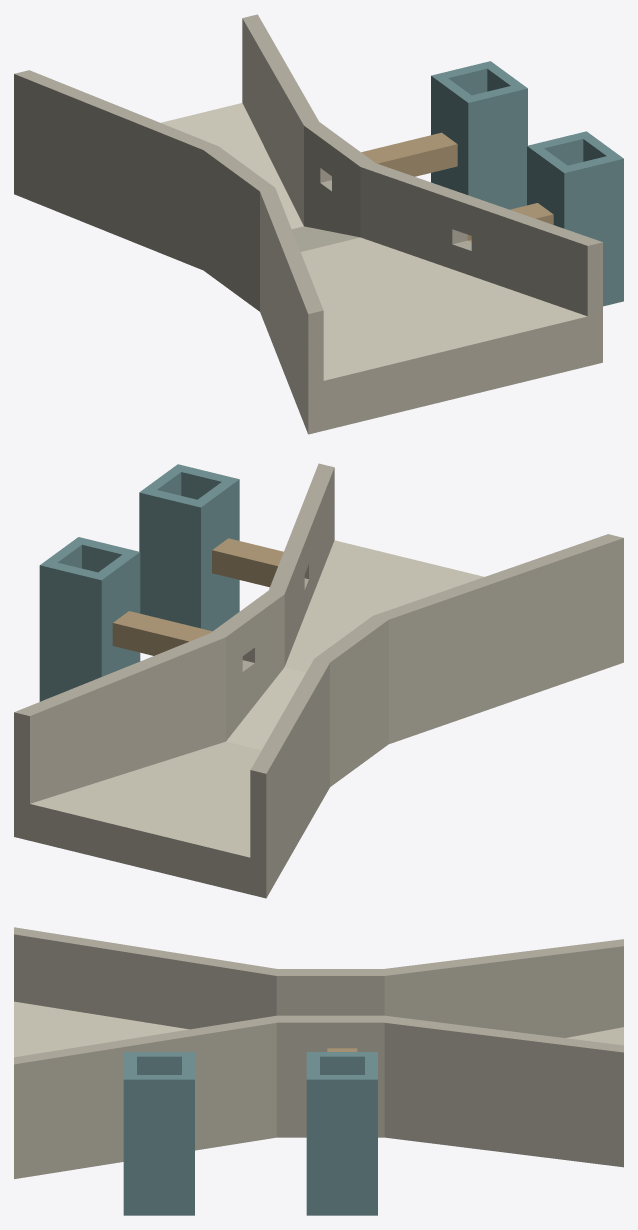
The picture shows the model from 3 angles, top to bottom: view 1: azimuth 30°, elevation 25°; view 2: azimuth 150°, elevation 25°; view 3: azimuth 270°, elevation 25°; orthographic projection. The views are drawn at different scales.
Visible parts, largest first — view 1: WholeConvergingDroppingAndExpandingFlume, WholeOpenFloorAndPortSideWell2, WholeOpenFloorAndPortSideWell1, WholeHollowRectangularSideConnection2; view 2: WholeConvergingDroppingAndExpandingFlume, WholeOpenFloorAndPortSideWell1, WholeOpenFloorAndPortSideWell2, WholeHollowRectangularSideConnection2, WholeHollowRectangularSideConnection1; view 3: WholeConvergingDroppingAndExpandingFlume, WholeOpenFloorAndPortSideWell1, WholeOpenFloorAndPortSideWell2.
Boxes of the visible parts, <box> form: WholeConvergingDroppingAndExpandingFlume: <box>14,14,602,434</box>; WholeOpenFloorAndPortSideWell2: <box>431,61,527,209</box>; WholeOpenFloorAndPortSideWell1: <box>527,131,623,306</box>; WholeHollowRectangularSideConnection2: <box>361,132,457,176</box>; WholeConvergingDroppingAndExpandingFlume: <box>14,463,623,898</box>; WholeOpenFloorAndPortSideWell1: <box>139,464,239,631</box>; WholeOpenFloorAndPortSideWell2: <box>39,537,140,701</box>; WholeHollowRectangularSideConnection2: <box>112,611,212,655</box>; WholeHollowRectangularSideConnection1: <box>212,538,283,587</box>; WholeConvergingDroppingAndExpandingFlume: <box>14,927,623,1179</box>; WholeOpenFloorAndPortSideWell1: <box>123,1052,194,1215</box>; WholeOpenFloorAndPortSideWell2: <box>306,1052,377,1215</box>.
Bounding box in the file's own units: 4.38 × 1.6 × 6.5.
